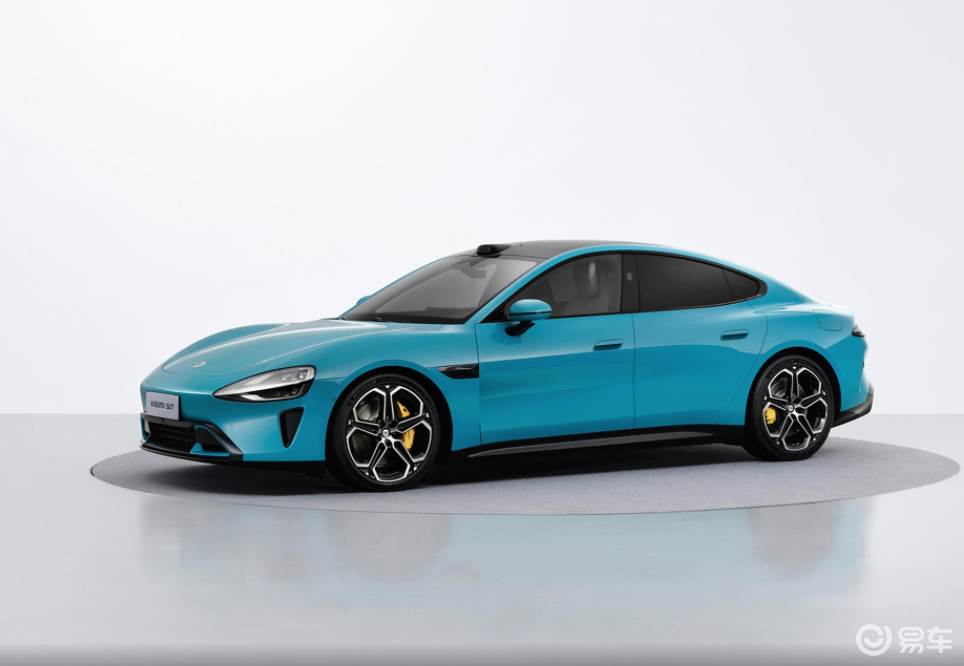su7: (129, 231, 875, 495)
